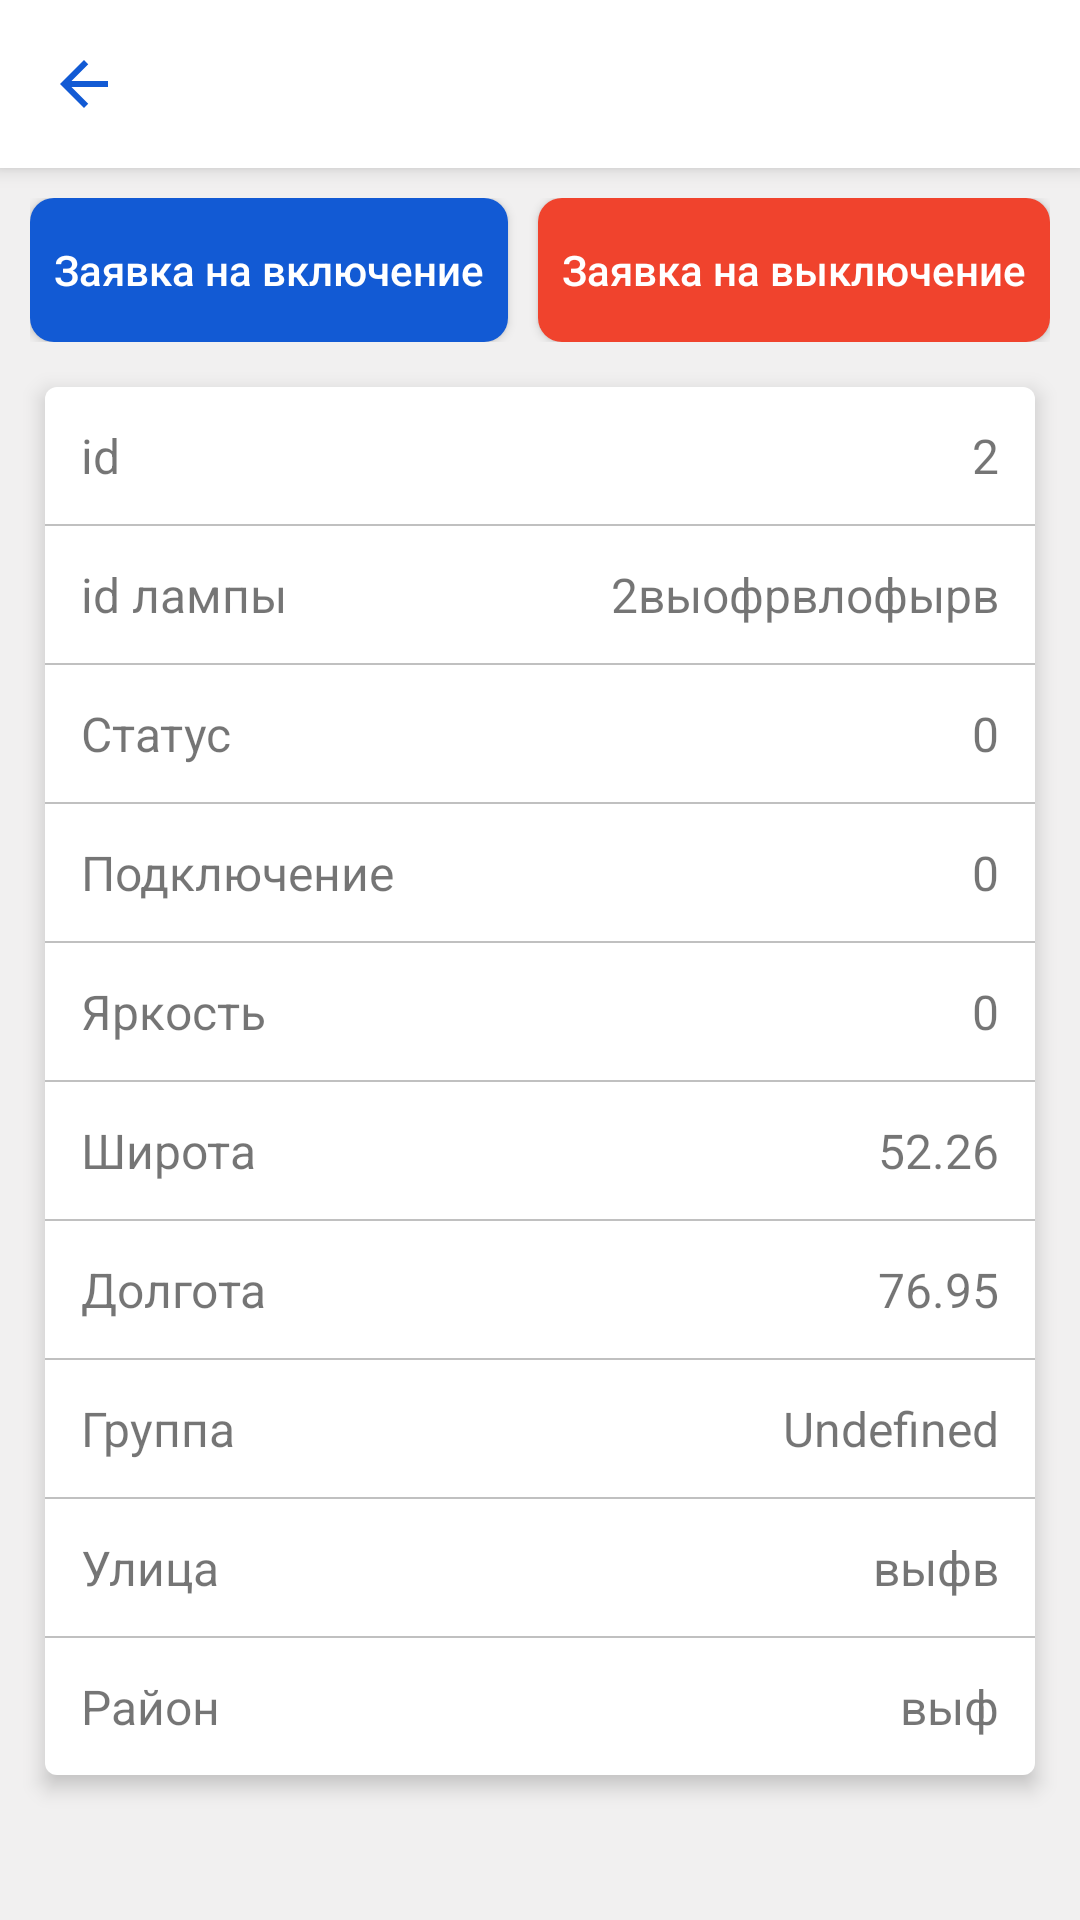

Where to tap for icons on this 1080 x 1920 app screen, as point (x, y):
arrow back: point (84, 84)
